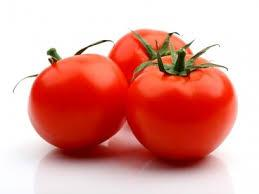tomato: (126, 61, 234, 162), (28, 55, 126, 148), (110, 28, 190, 79)
